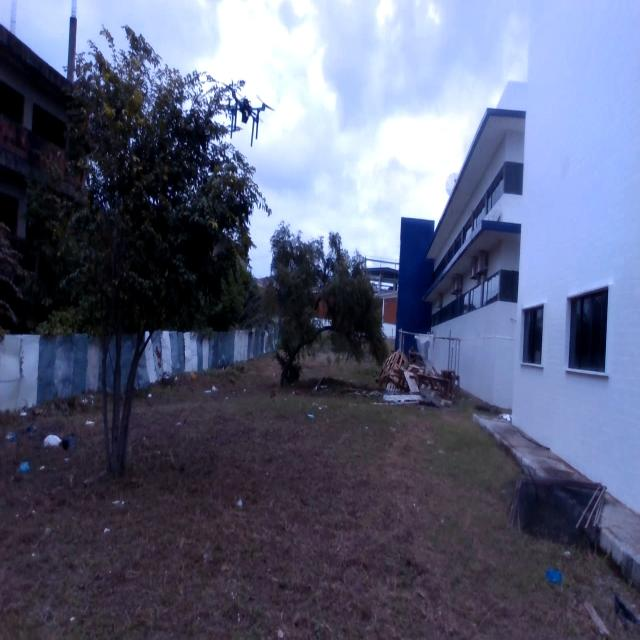-uav-: (207, 55, 285, 160)
